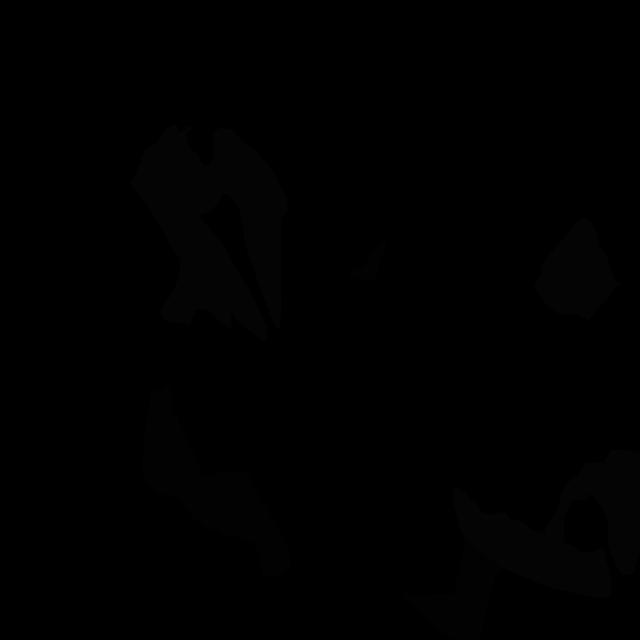cardboard: (142, 385, 291, 578), (402, 534, 503, 640), (350, 240, 387, 282)
soft_plastic: (130, 125, 288, 341), (453, 485, 612, 599), (534, 217, 621, 320), (578, 449, 640, 575), (544, 474, 590, 541)
